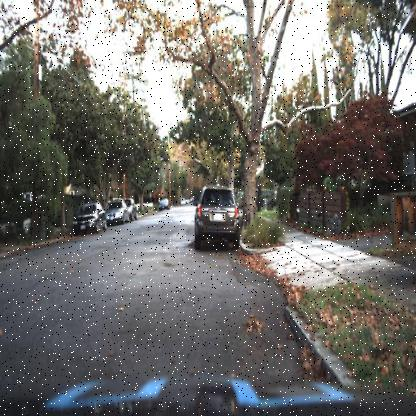car: (185, 179, 246, 257), (68, 191, 108, 240), (102, 195, 129, 233), (124, 193, 140, 225), (157, 195, 171, 211)
